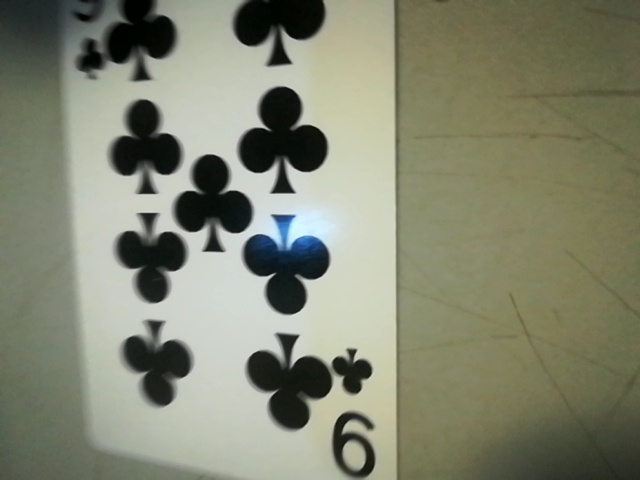mh 9: (322, 343, 393, 480)
